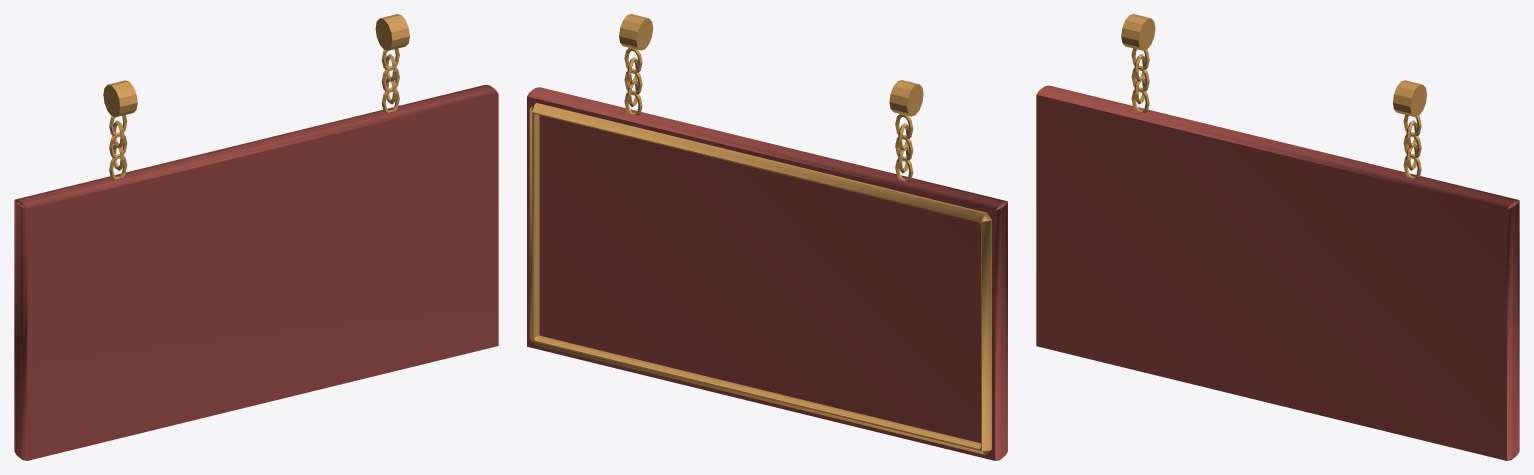
File: Cartel_Menu.fbx
The picture shows the model from 3 angles, left to right: view 1: azimuth 30°, elevation 25°; view 2: azimuth 150°, elevation 25°; view 3: azimuth 330°, elevation 25°; orthographic projection.
Visible parts, largest first — view 1: CM_Horizontal_Centro.001, Abrazadera.002, Abrazadera.003; view 2: CM_Horizontal_Centro.001, CM_Horizontal_Base_Madera, Abrazadera.002, Abrazadera.003; view 3: CM_Horizontal_Centro.001, Abrazadera.002, Abrazadera.003.
Boxes of the visible parts, x1,y1,x2,y2 form: CM_Horizontal_Centro.001: [14, 84, 498, 460]; Abrazadera.002: [103, 80, 137, 116]; Abrazadera.003: [375, 14, 409, 50]; CM_Horizontal_Centro.001: [527, 87, 1007, 460]; CM_Horizontal_Base_Madera: [529, 103, 991, 454]; Abrazadera.002: [889, 80, 923, 116]; Abrazadera.003: [619, 14, 653, 50]; CM_Horizontal_Centro.001: [1036, 85, 1519, 460]; Abrazadera.002: [1121, 14, 1155, 50]; Abrazadera.003: [1393, 80, 1426, 116].
Size of the model in its own units: 297 by 211 by 23.21.
